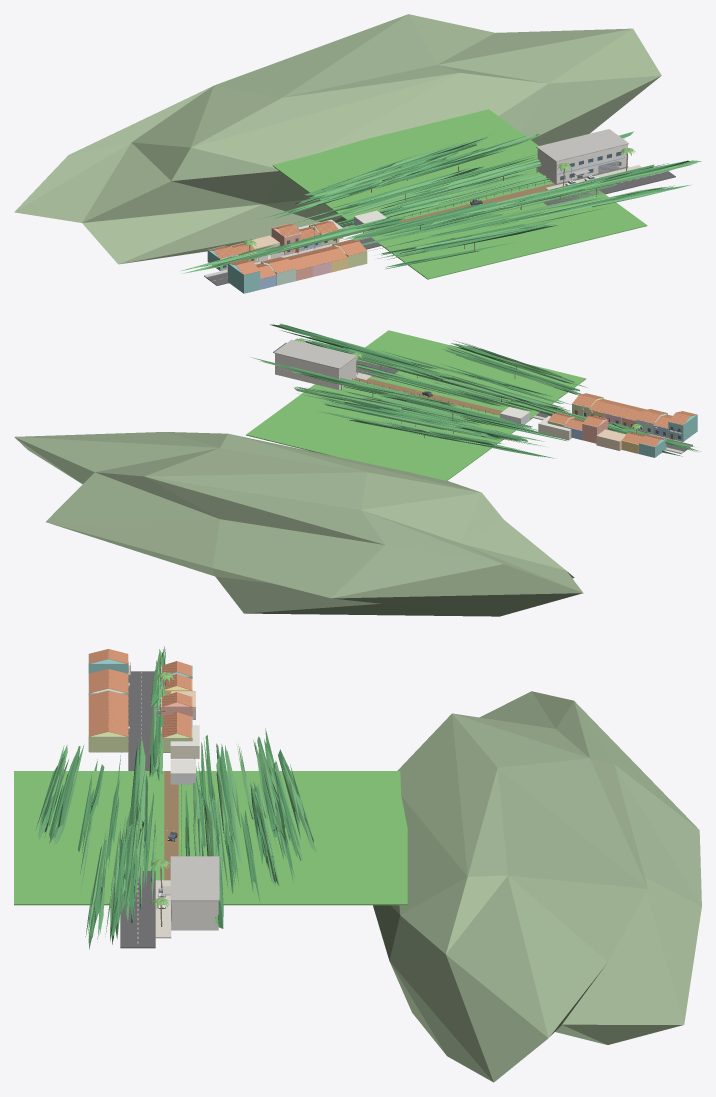
3 views of the same model, one above another, from view 1: azimuth 30°, elevation 25°; view 2: azimuth 150°, elevation 25°; view 3: azimuth 270°, elevation 25° (orthographic). The views are drawn at different scales.
Parts seen in each view (by area): view 1: hill_far, turf, plant_leaf, plant_leaf_dark, plaster_white, FRONT roof_tile, concrete, asphalt, roof_tile, FRONT plaster_teal, dirt; view 2: hill_far, turf, plant_leaf, plant_leaf_dark, plaster_white, FRONT roof_tile, concrete, roof_tile, dirt, asphalt, FRONT plaster_teal; view 3: hill_far, turf, plant_leaf_dark, plant_leaf, asphalt, FRONT roof_tile, concrete, plaster_white, roof_tile, dirt, FRONT plaster_lime, stone.
Part boxes in pixels (x1,y1,x2,y2): hill_far: (14, 14, 661, 264); turf: (272, 109, 647, 279); plant_leaf: (183, 133, 701, 273); plant_leaf_dark: (181, 131, 691, 270); plaster_white: (220, 144, 627, 261); FRONT roof_tile: (228, 239, 366, 278); concrete: (220, 129, 628, 270); asphalt: (206, 171, 675, 285); roof_tile: (208, 221, 338, 258); FRONT plaster_teal: (228, 263, 260, 293); dirt: (400, 183, 555, 222); hill_far: (14, 432, 583, 616); turf: (246, 330, 586, 480); plant_leaf: (259, 323, 696, 451); plant_leaf_dark: (251, 324, 700, 458); plaster_white: (275, 353, 666, 442); FRONT roof_tile: (572, 393, 697, 428); concrete: (274, 339, 356, 369); roof_tile: (548, 413, 665, 446); dirt: (353, 378, 531, 419); asphalt: (273, 343, 692, 451); FRONT plaster_teal: (668, 415, 697, 441); hill_far: (373, 691, 701, 1082); turf: (14, 771, 407, 905); plant_leaf_dark: (36, 646, 313, 949); plant_leaf: (38, 649, 316, 944); asphalt: (120, 671, 155, 948); FRONT roof_tile: (89, 649, 128, 736); concrete: (162, 856, 219, 901); plaster_white: (161, 666, 218, 930); roof_tile: (161, 661, 192, 737); dirt: (164, 771, 178, 880); FRONT plaster_lime: (88, 725, 128, 752); stone: (155, 880, 171, 938).
Size of the model in its own units: 230 by 46.59 by 175.
